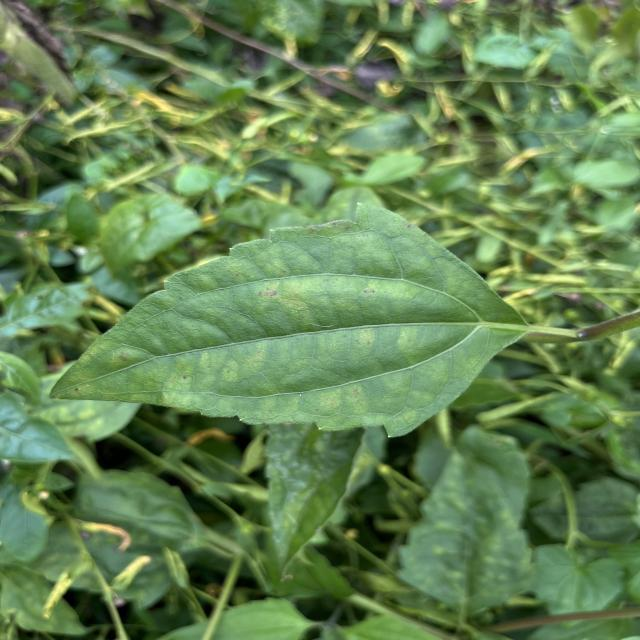Chromolaena odorata: (44, 198, 532, 441)
